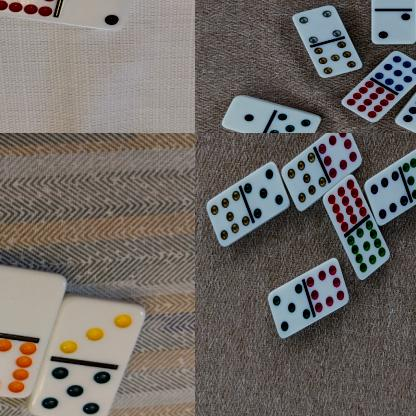pip-1: (222, 95, 271, 133), (370, 0, 416, 11)
pip-10: (0, 331, 36, 398)
pip-11: (348, 221, 391, 280), (403, 143, 416, 201)
pip-12: (323, 176, 367, 232), (342, 80, 395, 124), (0, 0, 63, 21)
pip-2: (65, 0, 135, 31), (372, 10, 416, 43)
pip-3: (61, 297, 146, 363)
pip-4: (292, 6, 343, 44)
pip-5: (34, 361, 111, 416), (244, 162, 290, 222), (268, 281, 310, 339), (270, 112, 321, 133)
pip-6: (366, 169, 409, 228), (396, 97, 416, 133)
pip-7: (281, 152, 326, 212), (207, 189, 251, 247), (314, 42, 364, 80)
pip-8: (308, 258, 350, 316), (318, 133, 362, 179)
pip-9: (374, 52, 416, 92)
